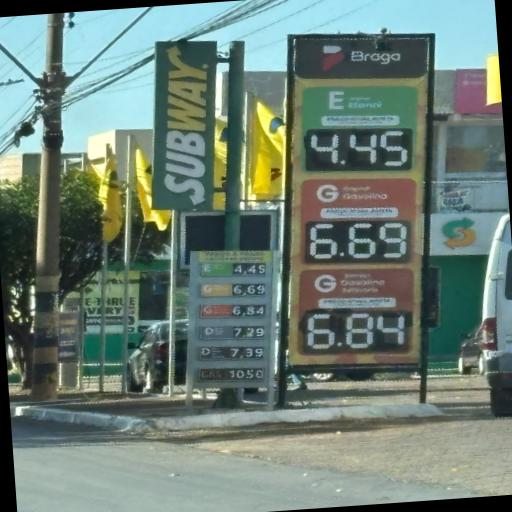ETANOL: (301, 86, 414, 125)
GASOLINA AD: (306, 271, 411, 305)
GASOLINA C: (305, 178, 410, 219)
placa: (287, 78, 425, 363)
preco: (302, 309, 419, 357), (311, 127, 418, 168), (308, 220, 413, 260)
